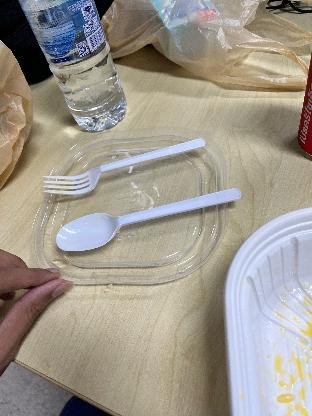Others: (54, 176, 242, 258), (35, 134, 210, 198)
Plastic Bottle: (24, 0, 128, 130)
